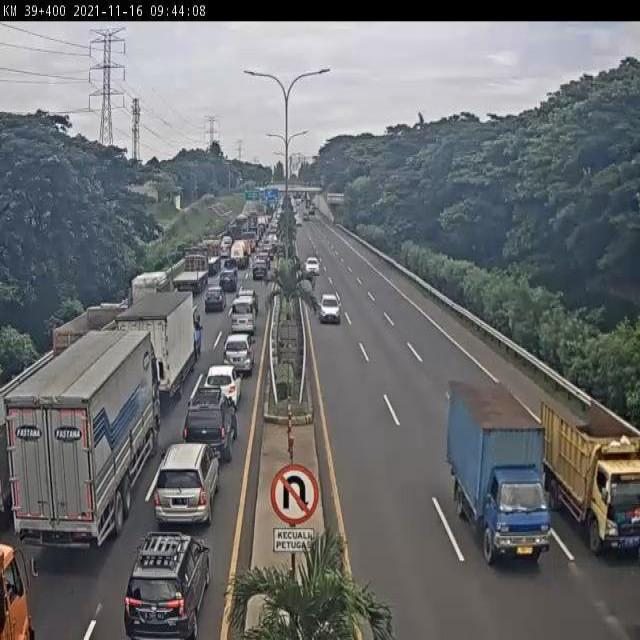car: (125, 521, 217, 640), (150, 434, 228, 526), (184, 389, 254, 480), (195, 364, 247, 404), (222, 329, 263, 376), (227, 295, 266, 341), (319, 283, 348, 336), (297, 247, 331, 284), (205, 286, 230, 322), (219, 267, 241, 288), (252, 256, 268, 283)
small truck: (539, 362, 640, 590)
truck-l-: (0, 317, 168, 544), (176, 249, 208, 296)
truck-m-: (441, 370, 558, 586), (116, 287, 206, 404), (48, 292, 133, 348), (129, 257, 172, 307)
